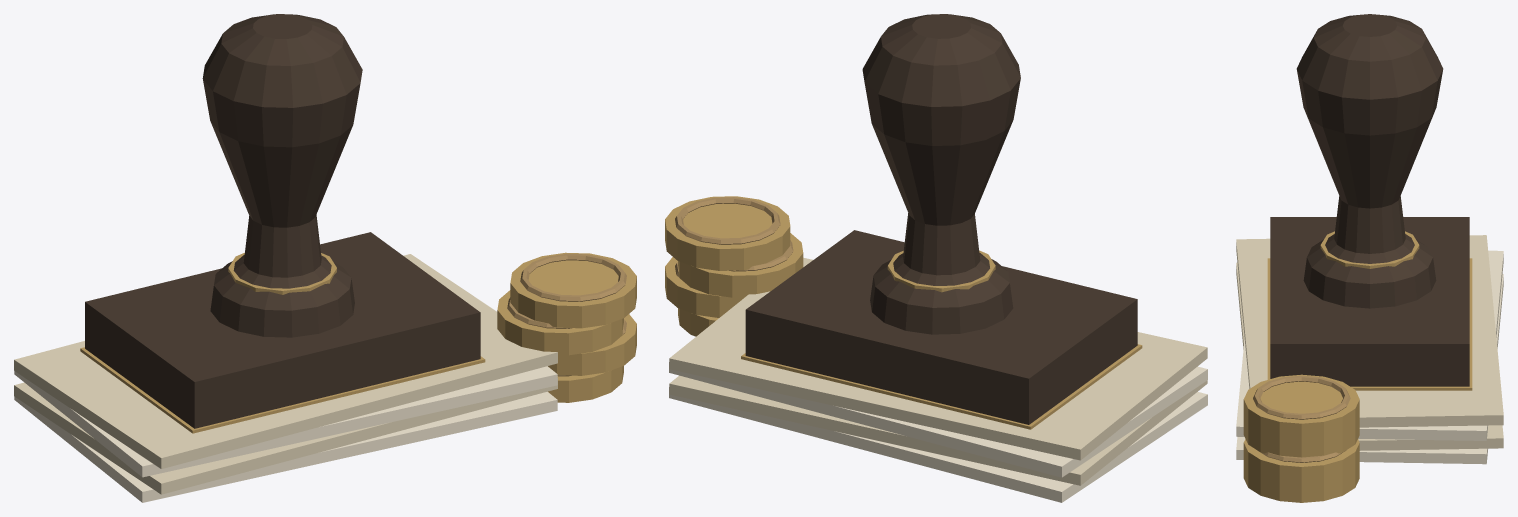
File: 02_Leadership_Stamp.fbx
The picture shows the model from 3 angles, left to right: view 1: azimuth 30°, elevation 25°; view 2: azimuth 150°, elevation 25°; view 3: azimuth 270°, elevation 25°; orthographic projection. The views are drawn at different scales.
Parts seen in each view (by area): view 1: 02_Leadership_Stamp__Body, 02_Leadership_Stamp__Coins; view 2: 02_Leadership_Stamp__Body, 02_Leadership_Stamp__Coins; view 3: 02_Leadership_Stamp__Body, 02_Leadership_Stamp__Coins.
Boxes of the visible parts, box(x1,y1,x2,y2) form: 02_Leadership_Stamp__Body: box(14, 14, 557, 502); 02_Leadership_Stamp__Coins: box(497, 252, 636, 402); 02_Leadership_Stamp__Body: box(669, 14, 1207, 502); 02_Leadership_Stamp__Coins: box(665, 196, 803, 336); 02_Leadership_Stamp__Body: box(1236, 14, 1503, 464); 02_Leadership_Stamp__Coins: box(1243, 374, 1359, 502).
Size of the model in its own units: 316 by 224 by 157.
Materials: 2 (2 with a texture image).
